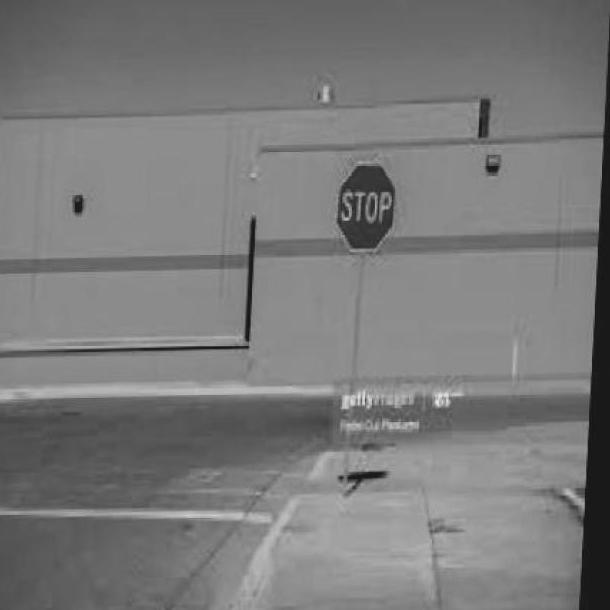stop_sign: (338, 161, 400, 256)
